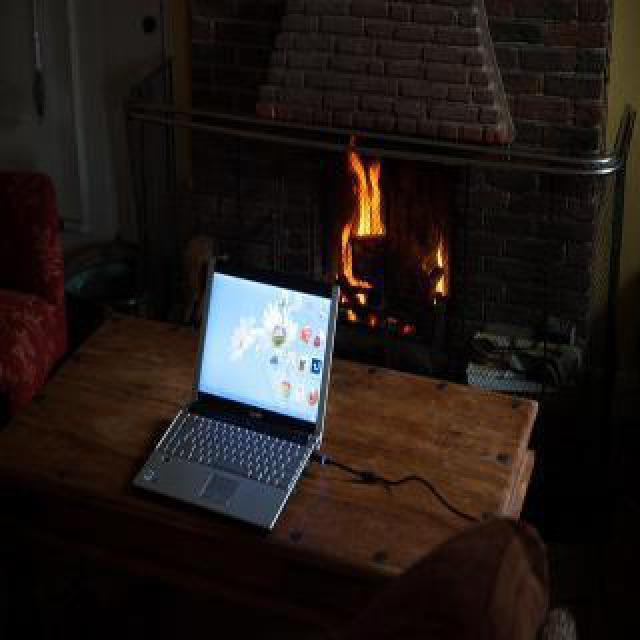Fire: (330, 152, 394, 280), (426, 220, 454, 304)
